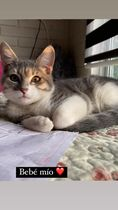cat: (1, 38, 117, 137)
